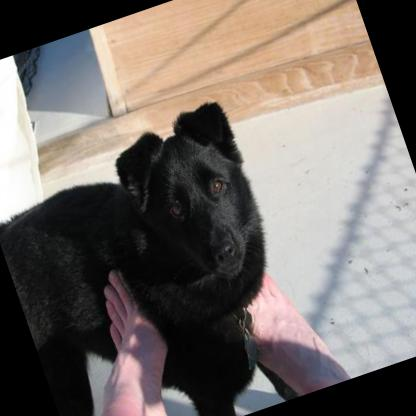schipperke: (0, 93, 321, 416)
